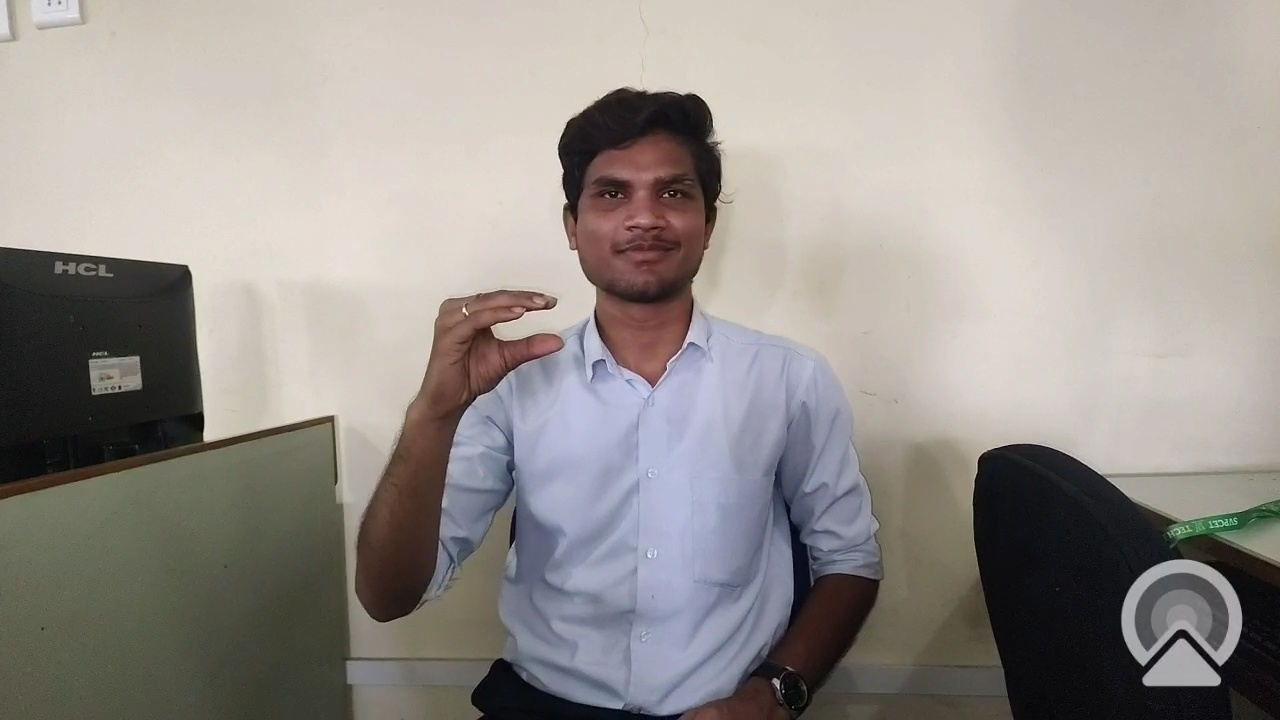No: (392, 269, 579, 438)
